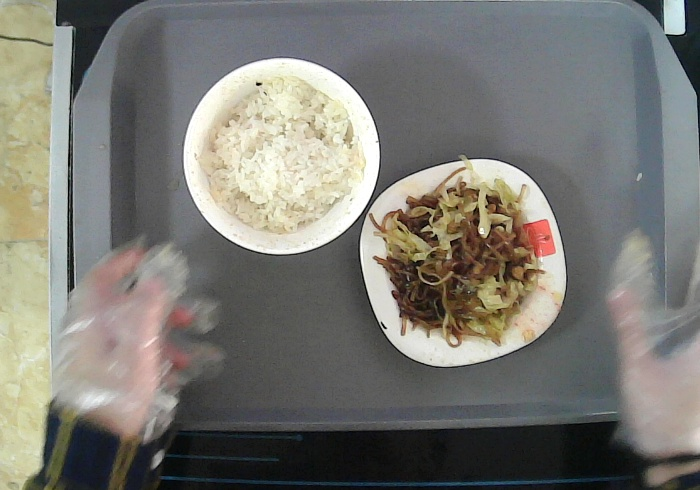SHKJ-Bai_Se_Si_Fang_Cai_Die: (358, 158, 570, 368)
SHKJ-Fan_Wan: (181, 55, 381, 257)
